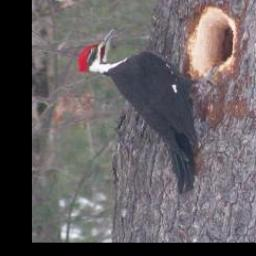Woodpecker: (74, 28, 226, 194)
